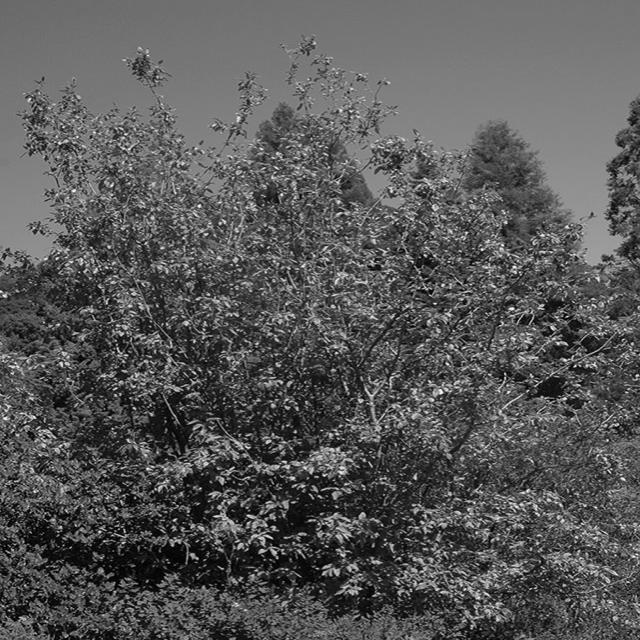Malus fusca: (19, 33, 608, 607)
